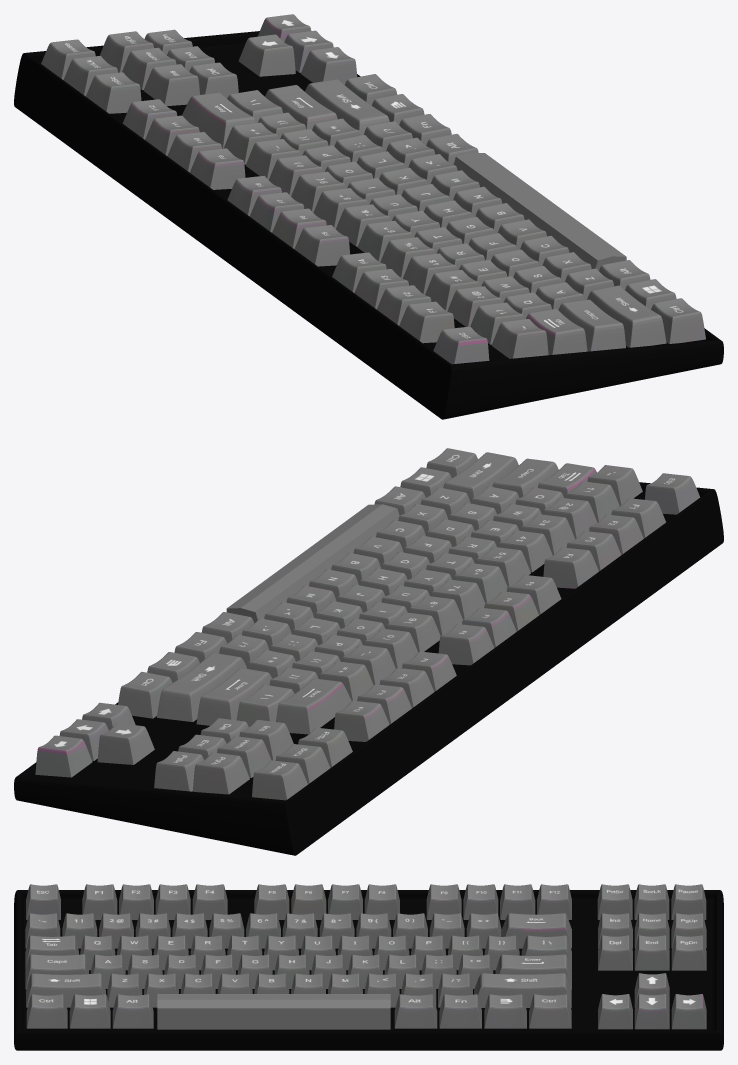
The model's file is tkl_keyboard_grey-transformed.glb.
The picture shows the model from 3 angles, top to bottom: view 1: azimuth 30°, elevation 25°; view 2: azimuth 150°, elevation 25°; view 3: azimuth 270°, elevation 25°; orthographic projection. The views are drawn at different scales.
Parts seen in each view (by area): view 1: Keyboard Body; view 2: Keyboard Body; view 3: Keyboard Body.
Part boxes in pixels (box(x1,y1,x2,y2)): Keyboard Body: box(14, 14, 723, 419); Keyboard Body: box(14, 448, 723, 855); Keyboard Body: box(14, 884, 723, 1050).
Bounding box in the file's own units: 5.55 × 1.5 × 14.78.
2 materials, 1 textured.
